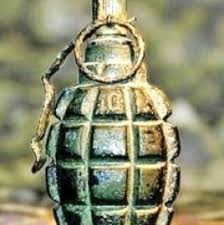e1: (29, 1, 182, 225)
